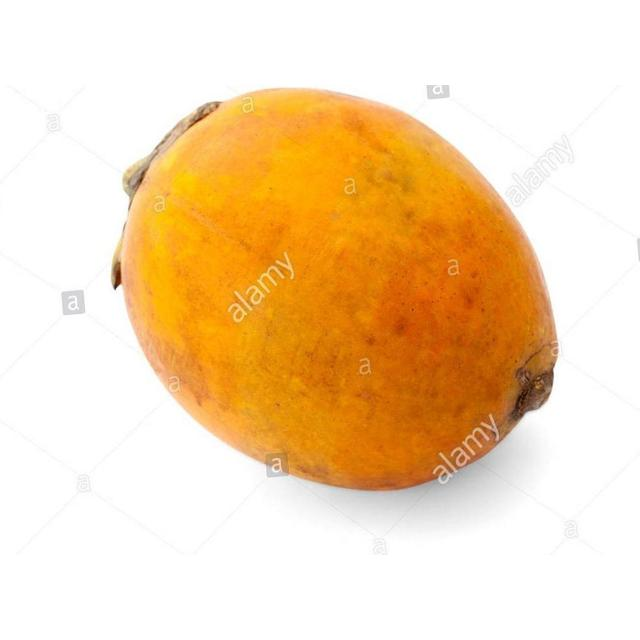good: (113, 87, 560, 494)
